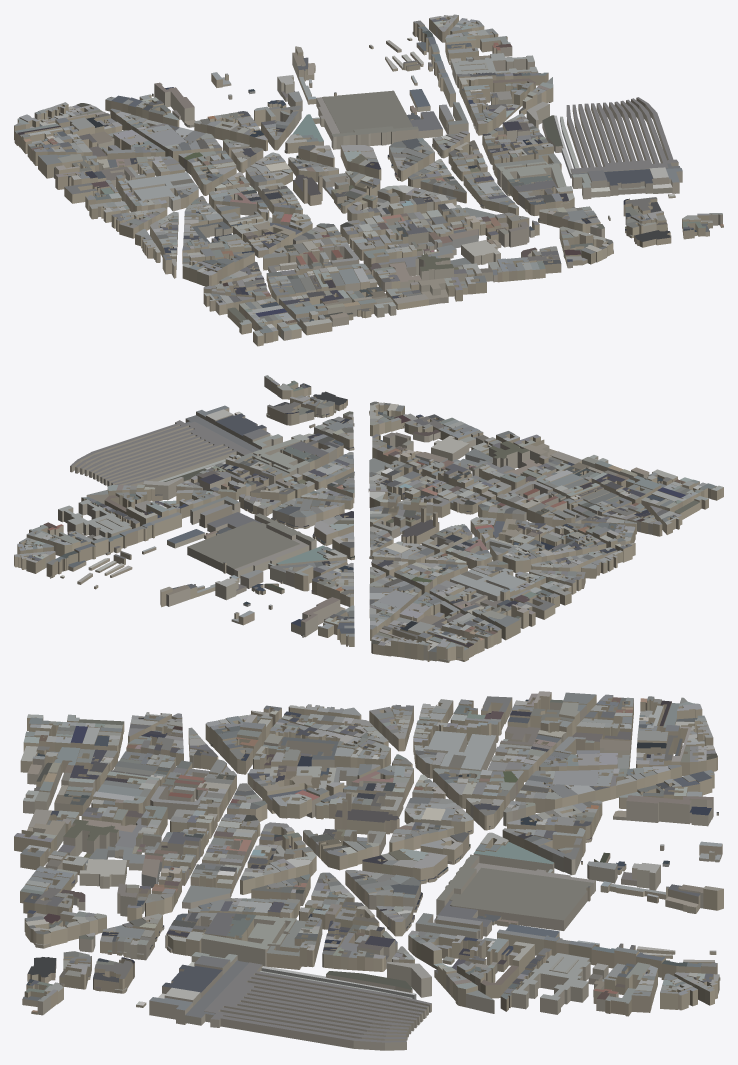
3 renders of one model, top to bottom at view 1: azimuth 30°, elevation 25°; view 2: azimuth 150°, elevation 25°; view 3: azimuth 270°, elevation 25°, orthographic. The views are drawn at different scales.
Visible parts, largest first — view 1: tuile; view 2: tuile; view 3: tuile.
Boxes of the visible parts, x1,y1,x2,y2 form: tuile: (14, 14, 723, 346); tuile: (14, 375, 723, 662); tuile: (14, 691, 723, 1050).
Size of the model in its own units: 1136 by 70.17 by 1022.
